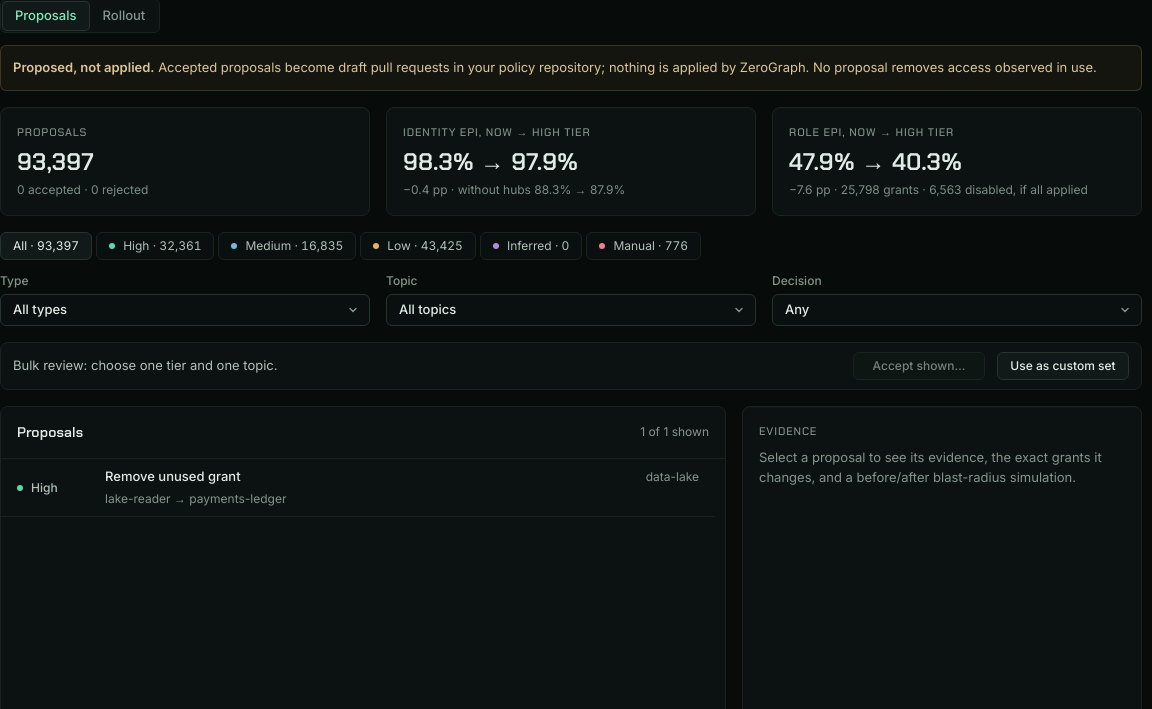
Proposals view › keeps decisions read-only for non-administrators
The image size is (1152, 709).
Click the button "Remove unused grant": {"x": 173, "y": 476} [1,459,715,517]
(page scrolled)
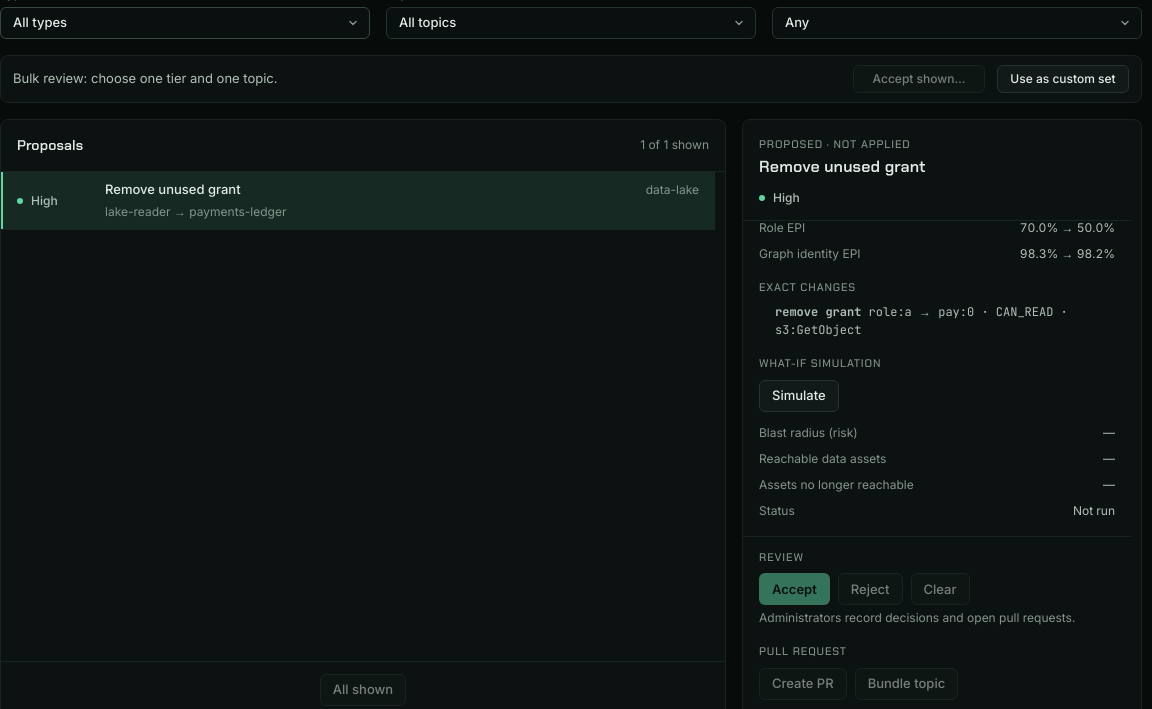
Expected: the button "Accept" is disabled, [759,573,830,605]
Expected: the text "Administrators record decisions and open pull requests." is shown, [759,609,1115,627]
